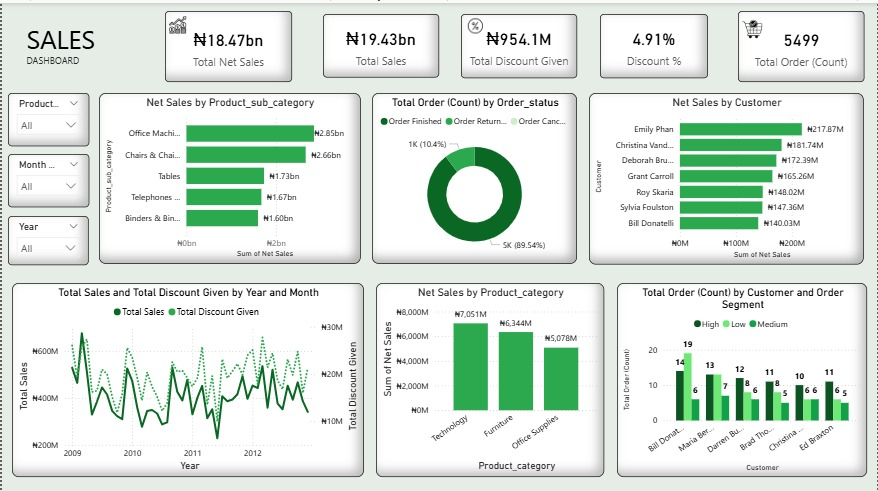

What the dashboard file says about the page in this screenshot:
{"tool":"powerbi","page":{"name":"Page 1","canvas":[1280,720],"ordinal":0},"visuals":[{"type":"card","fields":{"Values":["Sales Data.Net Total Sales"]},"box":[238.5,11.3,185.9,103.9],"z":0},{"type":"card","fields":{"Values":["Sales Data.Total Sales"]},"box":[469.8,16.1,169.8,93],"z":1000},{"type":"card","fields":{"Values":["Sales Data.Total Order"]},"box":[1077.1,11.3,185,103.9],"z":2000},{"type":"card","fields":{"Values":["Sales Data.Total Discount Giving"]},"box":[671.7,16.1,169.8,93.7],"z":3000},{"type":"card","fields":{"Values":["Sales Data.Discount %"]},"box":[874.4,16.4,158,93.7],"z":4000},{"type":"barChart","title":"Net Sales  by Top 5 Product_sub_category","fields":{"Y":["Sum(Sales Data.Net Sales )"],"Category":["Sales Data.Product_sub_category"]},"box":[141.2,132.3,382.6,250.3],"z":5000},{"type":"donutChart","fields":{"Category":["Sales Data.Order_status"],"Y":["Sales Data.Total Order"]},"box":[541,132.3,300.3,250.3],"z":6000},{"type":"lineChart","fields":{"Y":["Sales Data.Total Sales"],"Category":["Sales Data.Order_date.Variation.Date Hierarchy.Year","Sales Data.Order_date.Variation.Date Hierarchy.Month"],"Y2":["Sales Data.Total Discount Given"]},"box":[14.8,409.4,514.9,284.2],"z":7000},{"type":"columnChart","title":" Net Sales  by Product_category","fields":{"Category":["Sales Data.Product_category"],"Y":["Sum(Sales Data.Net Sales )"]},"box":[547.5,409.4,334.3,284.2],"z":8000},{"type":"barChart","title":" Net sales by Top 7 Customers ","fields":{"Category":["Sales Data.Customer"],"Y":["Sum(Sales Data.Net Sales )"]},"box":[858.6,131.9,402.1,251.1],"z":9000},{"type":"slicer","fields":{"Values":["Sales Data.Year"]},"box":[9.3,311.1,118,71.5],"z":10000},{"type":"clusteredColumnChart","fields":{"Category":["Sales Data.Customer"],"Y":["Sales Data.Total Order (Count)"],"Series":["Sales Data.Order Segment"]},"box":[900,409.8,365.9,283.9],"z":11000},{"type":"slicer","fields":{"Values":["Sales Data.Month Name"]},"box":[8.8,221.4,118.5,77.6],"z":12000},{"type":"textbox","box":[30.7,22,121.5,86.3],"z":13000},{"type":"slicer","fields":{"Values":["Sales Data.Product_category"]},"box":[8.8,131.7,118.5,77.6],"z":14000},{"type":"image","box":[1078,14.3,39.3,46.5],"z":15000},{"type":"image","box":[238.5,14.6,36.6,35.1],"z":16000},{"type":"image","box":[671.7,17.6,42.4,32.2],"z":17000}]}

Visuals, with their boxes in screenshot pixels (x1, y1, x2, y2), scaled from the page's 1280x720 canvas onto the 878x491 screenshot:
card - Sales Data.Net Total Sales: [164,8,291,79]
card - Sales Data.Total Sales: [322,11,439,74]
card - Sales Data.Total Order: [739,8,866,79]
card - Sales Data.Total Discount Giving: [461,11,577,75]
card - Sales Data.Discount %: [600,11,708,75]
"Net Sales  by Top 5 Product_sub_category" barChart: [97,90,359,261]
donutChart - Sales Data.Order_status x Sales Data.Total Order: [371,90,577,261]
lineChart - Sales Data.Total Sales x Sales Data.Order_date.Variation.Date Hierarchy.Year: [10,279,363,473]
" Net Sales  by Product_category" columnChart: [376,279,605,473]
" Net sales by Top 7 Customers " barChart: [589,90,865,261]
slicer - Sales Data.Year: [6,212,87,261]
clusteredColumnChart - Sales Data.Customer x Sales Data.Total Order (Count): [617,279,868,473]
slicer - Sales Data.Month Name: [6,151,87,204]
textbox: [21,15,104,74]
slicer - Sales Data.Product_category: [6,90,87,143]
image: [739,10,766,41]
image: [164,10,189,34]
image: [461,12,490,34]
